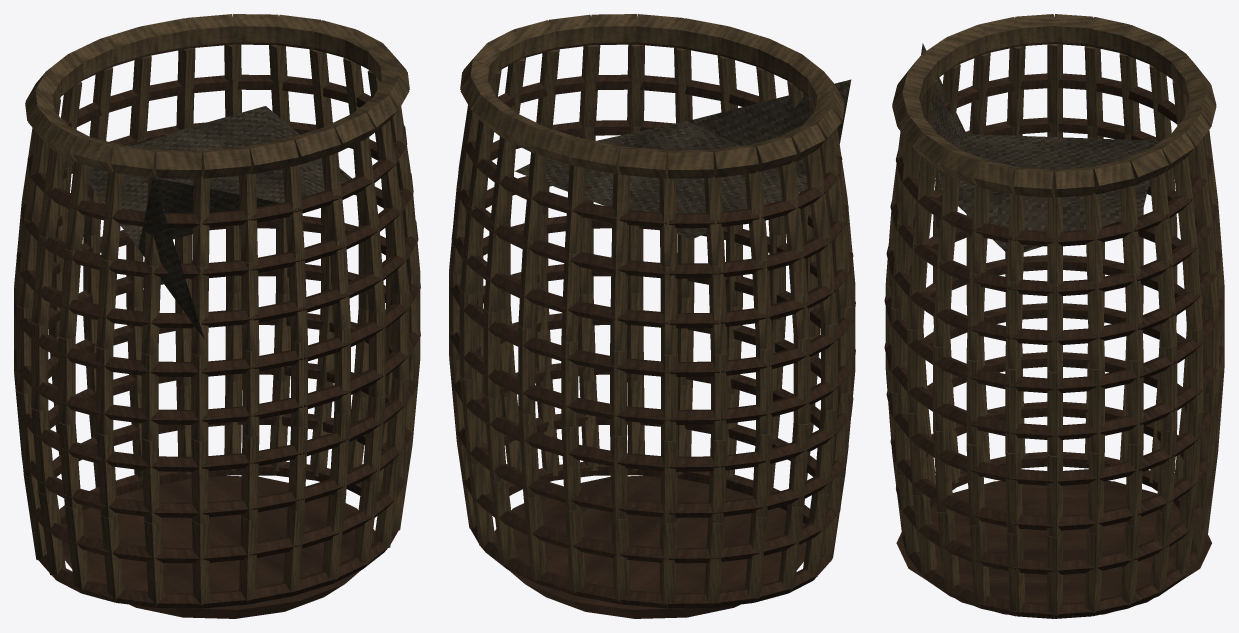
File: level_laundry_hamper_worn.glb
The picture shows the model from 3 angles, left to right: view 1: azimuth 30°, elevation 25°; view 2: azimuth 150°, elevation 25°; view 3: azimuth 270°, elevation 25°; orthographic projection. The views are drawn at different scales.
Visible parts, largest first — view 1: level_laundry_hamper_worn; view 2: level_laundry_hamper_worn; view 3: level_laundry_hamper_worn.
Boxes of the visible parts, x1,y1,x2,y2 form: level_laundry_hamper_worn: (14, 14, 420, 618); level_laundry_hamper_worn: (449, 14, 855, 618); level_laundry_hamper_worn: (884, 14, 1224, 618).
Bounding box in the file's own units: 0.477 × 0.5912 × 0.3877.
Materials: 3 (3 with a texture image).
